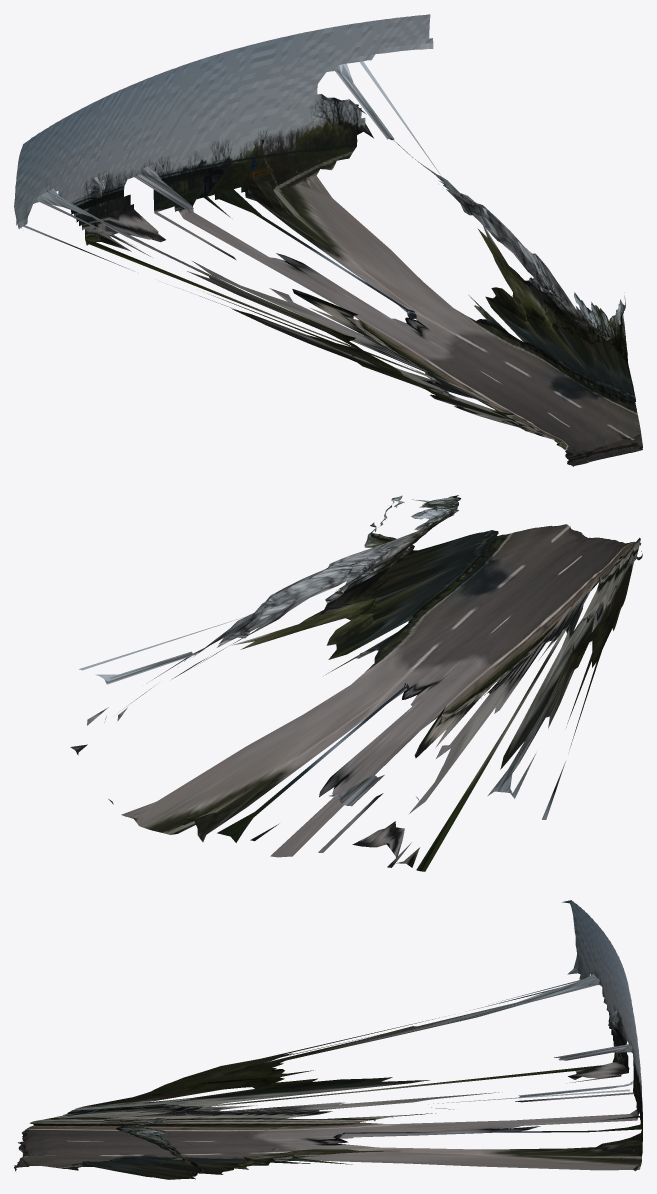
3 renders of one model, top to bottom at view 1: azimuth 30°, elevation 25°; view 2: azimuth 150°, elevation 25°; view 3: azimuth 270°, elevation 25°, orthographic. The views are drawn at different scales.
Visible parts, largest first — view 1: defaultobject; view 2: defaultobject; view 3: defaultobject.
Part boxes in pixels (x1,y1,x2,y2): defaultobject: (14,14,642,466); defaultobject: (70,495,642,871); defaultobject: (14,900,642,1179).
Size of the model in its own units: 32.11 by 11.73 by 44.43.
Materials: 1 (1 with a texture image).
